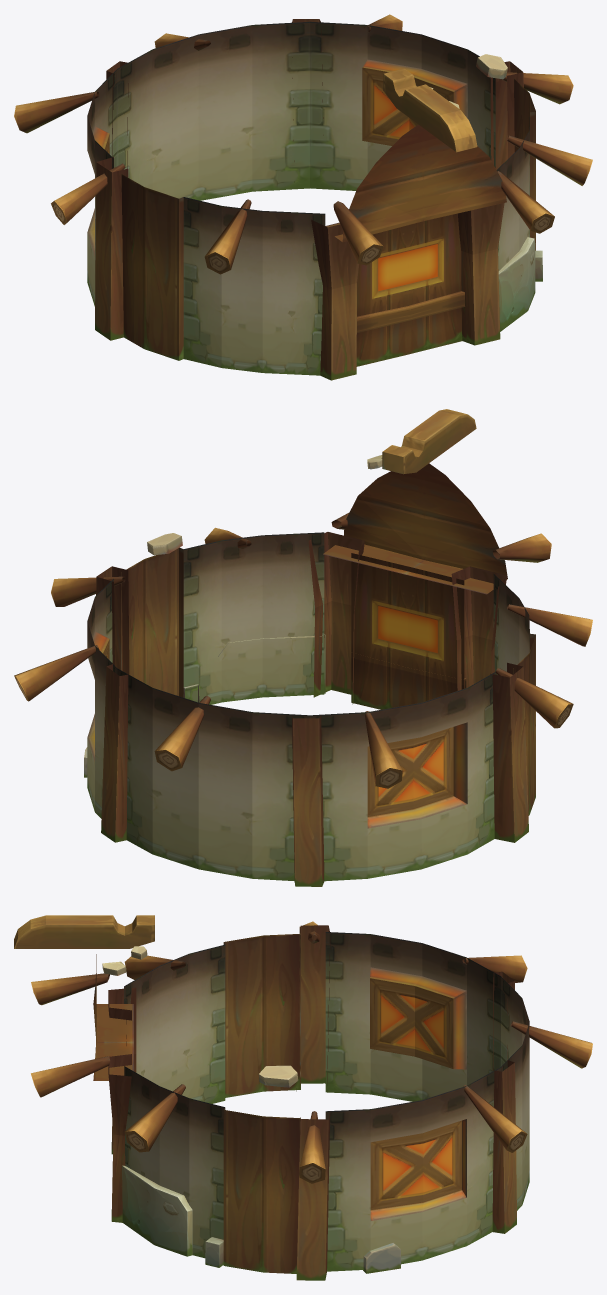
The model's file is map_1002_caowu_03_a.FBX.
3 renders of one model, top to bottom at view 1: azimuth 30°, elevation 25°; view 2: azimuth 150°, elevation 25°; view 3: azimuth 270°, elevation 25°, orthographic. The views are drawn at different scales.
Parts seen in each view (by area): view 1: map_1002_caowu_03_a; view 2: map_1002_caowu_03_a; view 3: map_1002_caowu_03_a.
Boxes of the visible parts, bbox=[...] form: map_1002_caowu_03_a: bbox=[14, 14, 592, 380]; map_1002_caowu_03_a: bbox=[14, 409, 592, 886]; map_1002_caowu_03_a: bbox=[14, 915, 592, 1280].
Size of the model in its own units: 8.81 by 4.48 by 8.93.
